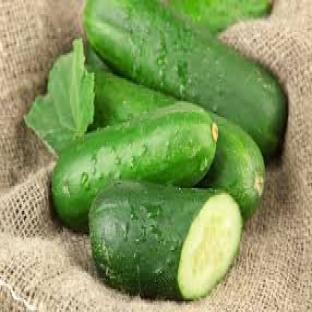Cucumber: (53, 103, 217, 228), (90, 181, 243, 299), (201, 116, 265, 219), (92, 68, 172, 127), (87, 43, 109, 70)
